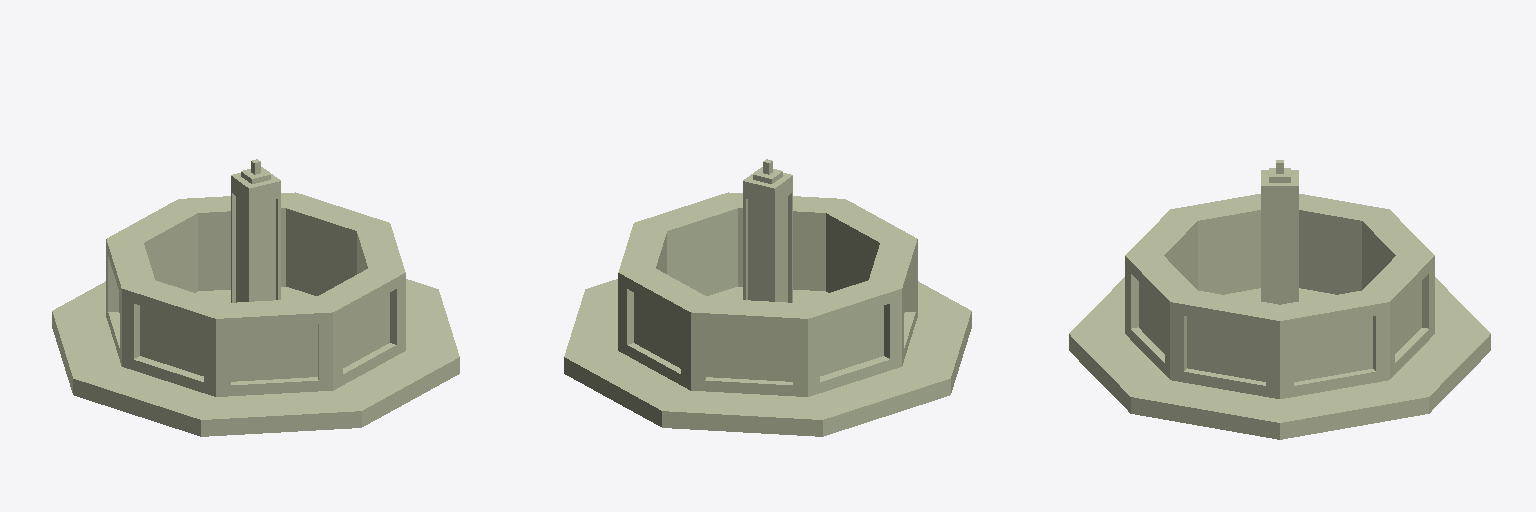
Rendered from brunnen2.obj.
3 renders of one model, left to right at view 1: azimuth 30°, elevation 25°; view 2: azimuth 150°, elevation 25°; view 3: azimuth 270°, elevation 25°, orthographic.
Parts seen in each view (by area): view 1: Tube4, Cylinder6, Cube7; view 2: Tube4, Cylinder6, Cube7; view 3: Tube4, Cylinder6, Cube7.
Part boxes in pixels (x1,y1,x2,y2): Tube4: (106, 192, 405, 396); Cylinder6: (52, 279, 459, 436); Cube7: (231, 159, 280, 302); Tube4: (618, 192, 917, 396); Cylinder6: (564, 279, 971, 436); Cube7: (743, 159, 792, 302); Tube4: (1125, 194, 1434, 398); Cylinder6: (1069, 277, 1490, 439); Cube7: (1261, 160, 1298, 304).
Bounding box in the file's own units: 3.41 × 1.69 × 3.41.